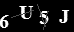5: (38, 10, 50, 25)
6: (1, 14, 9, 30)
J: (58, 9, 69, 24)
U: (18, 5, 35, 20)
